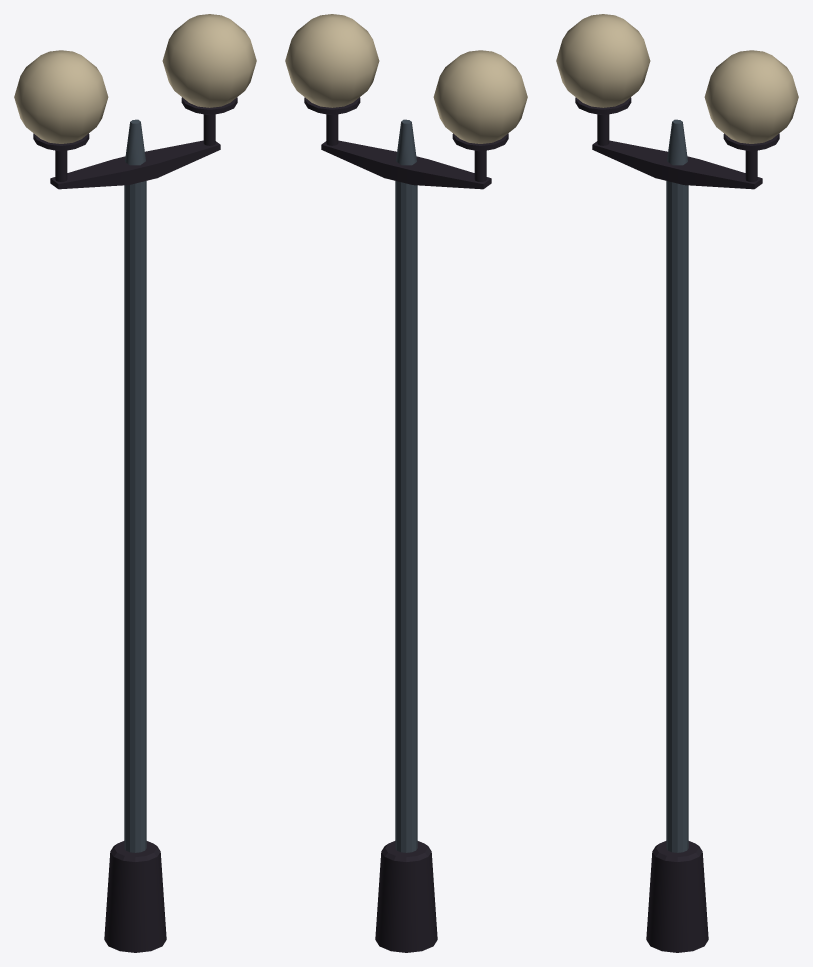
The model's file is clutter_lamppost.fbx.
3 renders of one model, left to right at view 1: azimuth 30°, elevation 25°; view 2: azimuth 150°, elevation 25°; view 3: azimuth 330°, elevation 25°, orthographic.
Visible parts, largest first — view 1: Box04; view 2: Box04; view 3: Box04.
Boxes of the visible parts, bbox=[...] form: Box04: bbox=[14, 14, 256, 952]; Box04: bbox=[285, 14, 527, 952]; Box04: bbox=[556, 14, 798, 952].
Size of the model in its own units: 1702 by 604 by 6387.
